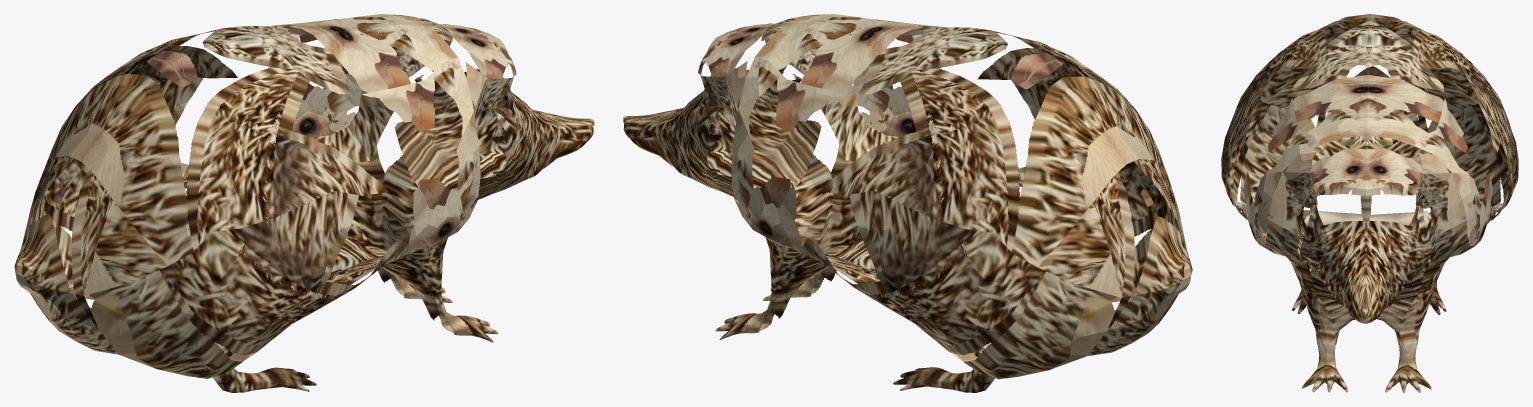
Rendered from Hadgehog.fbx.
The picture shows the model from 3 angles, left to right: view 1: azimuth 30°, elevation 25°; view 2: azimuth 150°, elevation 25°; view 3: azimuth 270°, elevation 25°; orthographic projection. The views are drawn at different scales.
Parts seen in each view (by area): view 1: Hadgehog_FBX; view 2: Hadgehog_FBX; view 3: Hadgehog_FBX.
Boxes of the visible parts, x1,y1,x2,y2 form: Hadgehog_FBX: [14, 14, 594, 392]; Hadgehog_FBX: [623, 14, 1192, 392]; Hadgehog_FBX: [1221, 14, 1518, 392].
Size of the model in its own units: 620 by 336 by 338.
Materials: 1 (1 with a texture image).
